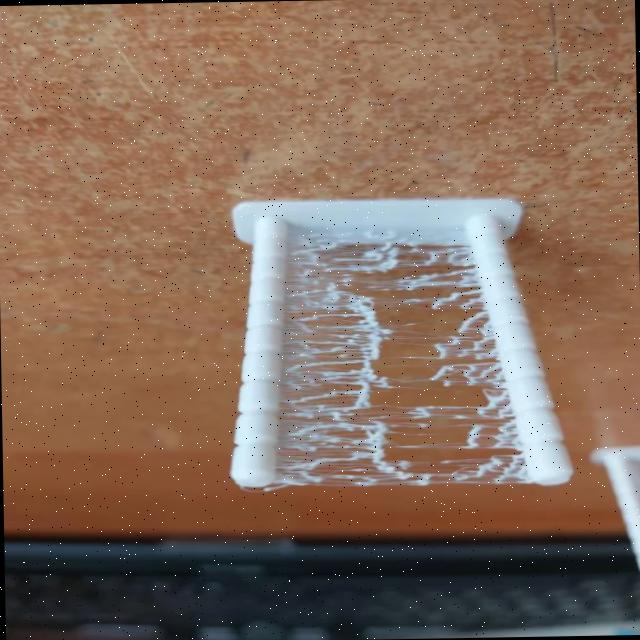stringing: (271, 229, 525, 485)
